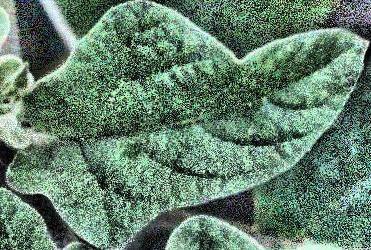HEALTHY: (1, 0, 371, 250)
